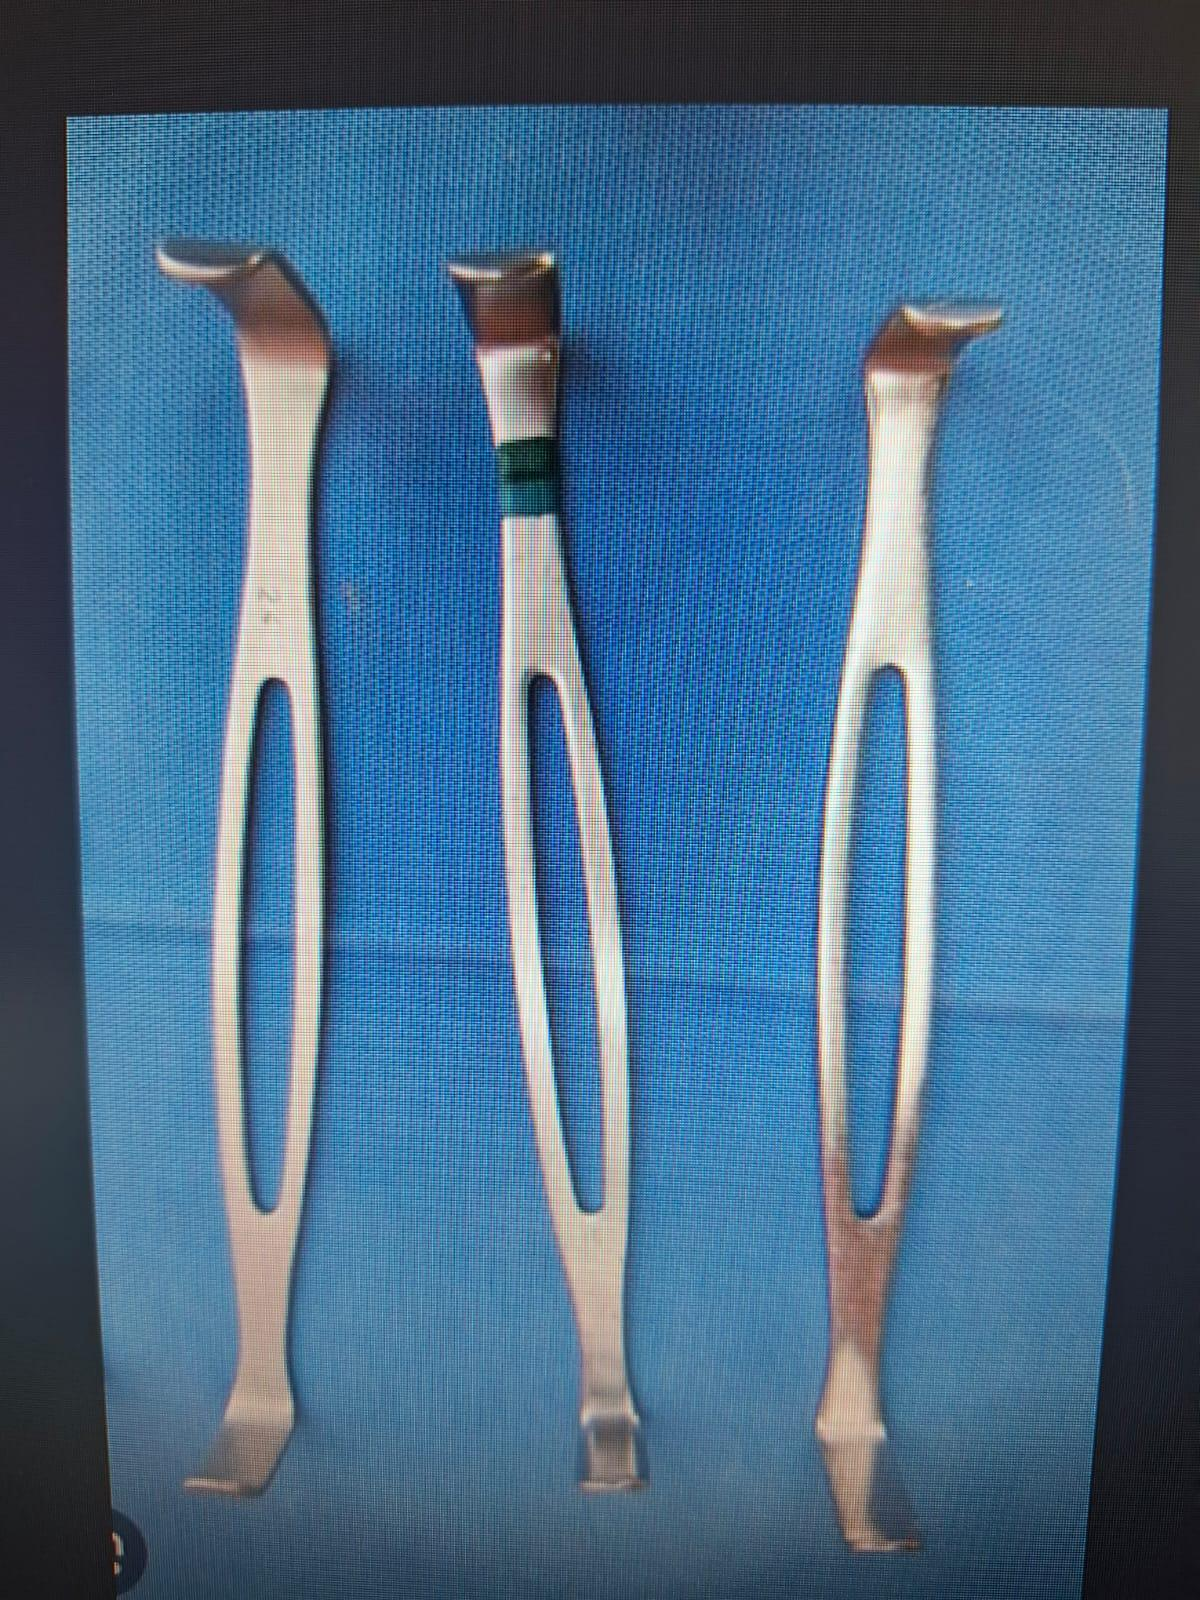Army Navy Retractor: (127, 205, 389, 1524), (793, 287, 1007, 1562)
